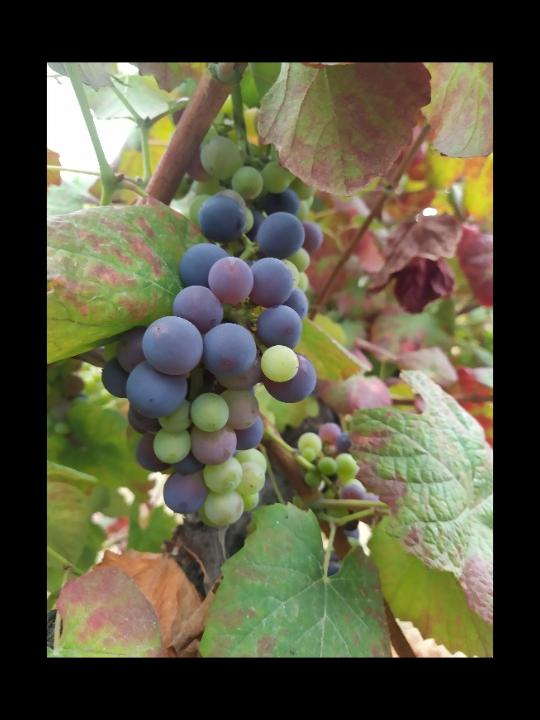grape: (100, 188, 320, 530)
